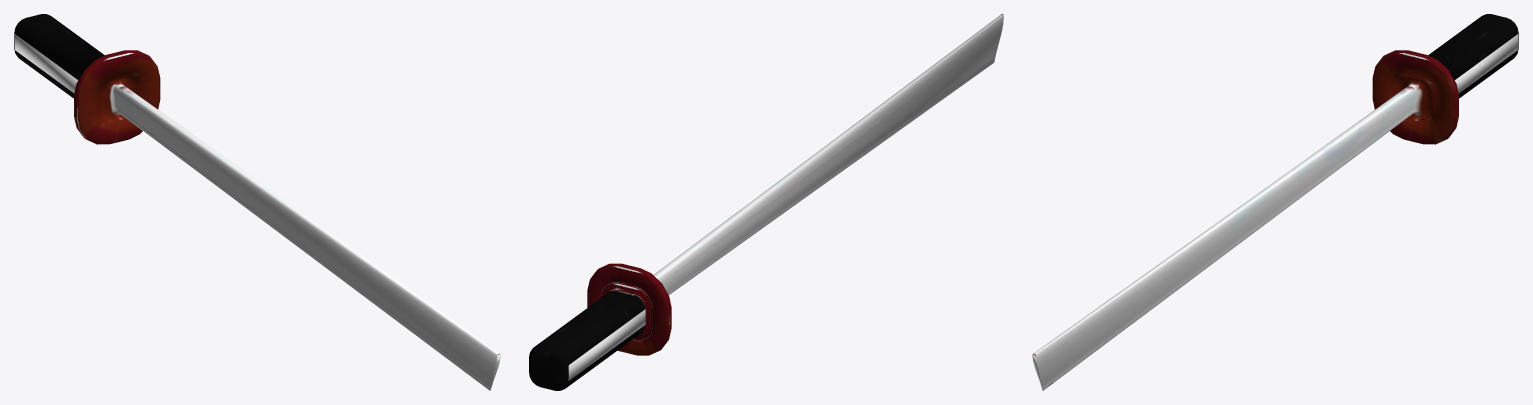
Rendered from katana.fbx.
3 renders of one model, left to right at view 1: azimuth 30°, elevation 25°; view 2: azimuth 150°, elevation 25°; view 3: azimuth 330°, elevation 25°, orthographic. The views are drawn at different scales.
Visible parts, largest first — view 1: emblem.001; view 2: emblem.001; view 3: emblem.001.
Boxes of the visible parts, bbox=[...] form: emblem.001: bbox=[14, 14, 500, 390]; emblem.001: bbox=[529, 14, 1003, 390]; emblem.001: bbox=[1032, 14, 1518, 390].
Bounding box in the file's own units: 16.92 × 16.92 × 162.
Materials: 2 (1 with a texture image).
